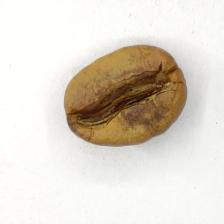NG: (70, 64, 177, 136)
